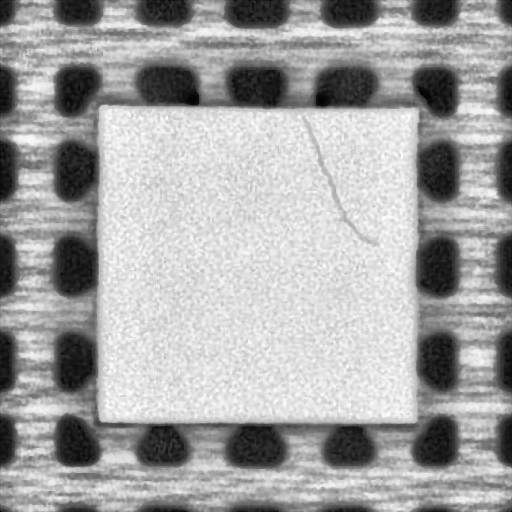DIE_CRACK: (299, 112, 371, 247)
